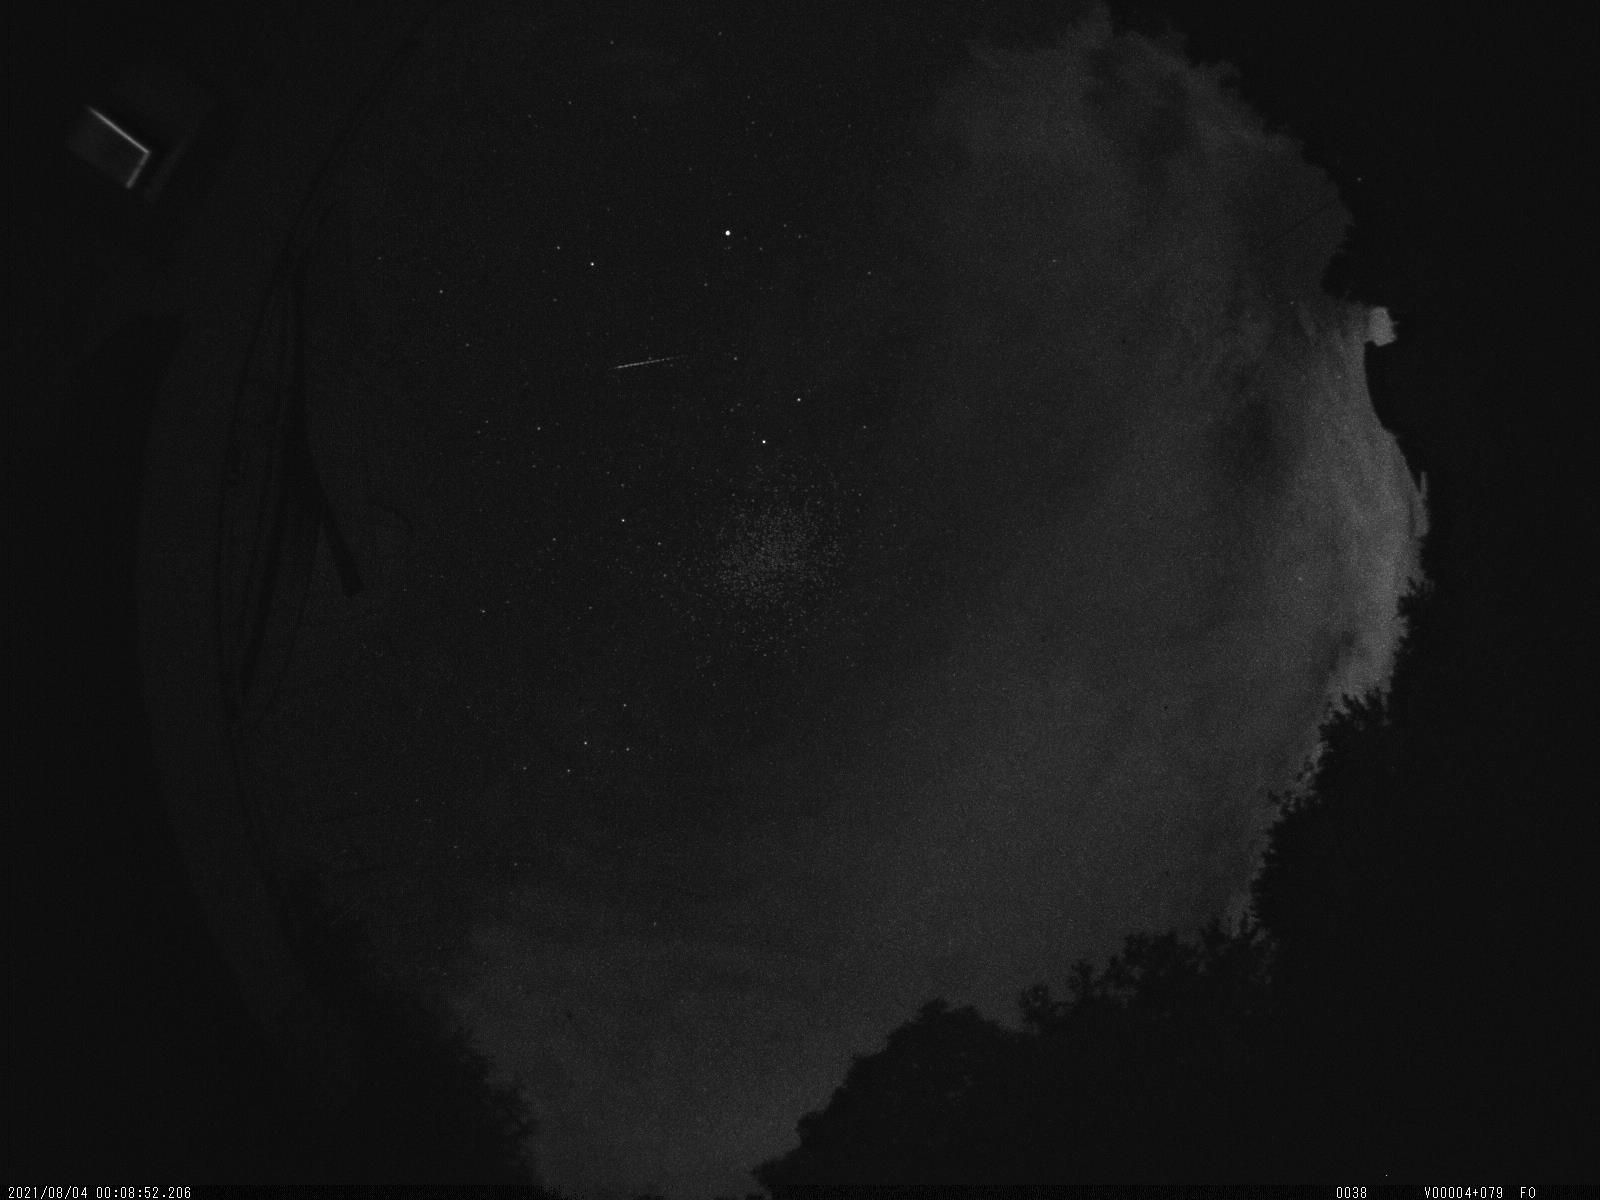Meteor: (605, 345, 692, 384)
